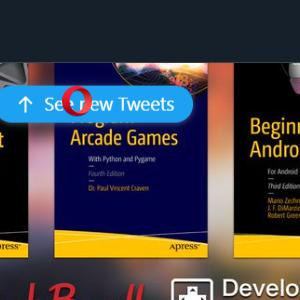opera: (62, 85, 92, 117)
